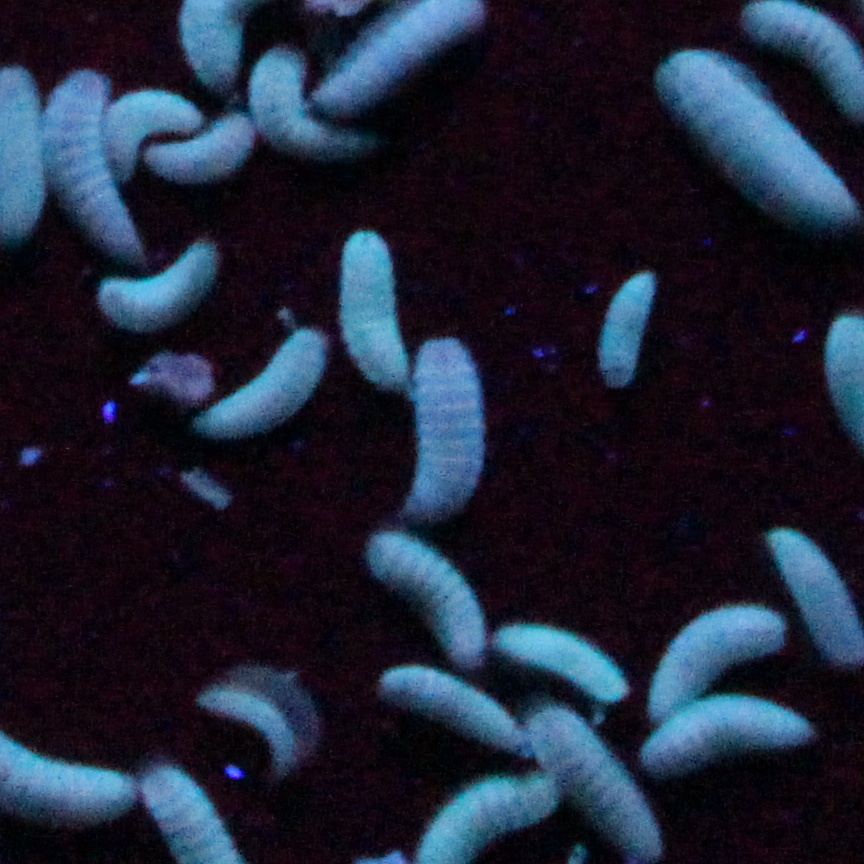larve: (651, 43, 857, 231), (522, 706, 670, 853), (646, 602, 790, 716), (376, 656, 534, 750), (203, 328, 332, 442), (369, 528, 483, 656), (408, 334, 478, 521), (60, 66, 129, 245), (640, 698, 804, 766), (258, 50, 356, 161), (346, 234, 415, 389), (502, 616, 625, 702), (200, 664, 303, 766), (592, 275, 659, 391), (102, 244, 213, 314), (105, 82, 194, 166), (145, 121, 265, 183)
